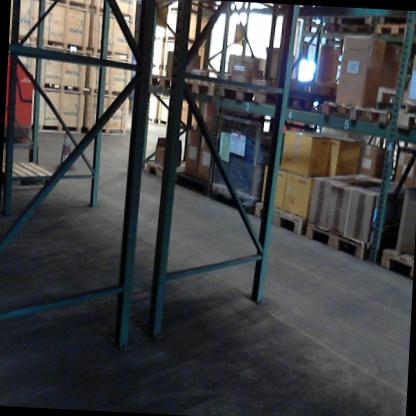pallet: (302, 210, 374, 265), (316, 88, 407, 131), (1, 157, 67, 197), (252, 195, 305, 242), (214, 76, 276, 111), (366, 242, 413, 279), (372, 15, 416, 54), (173, 68, 216, 102), (275, 87, 327, 115), (144, 67, 183, 98), (148, 156, 190, 184), (327, 20, 375, 44), (297, 20, 334, 47), (392, 104, 416, 136)
pallet_truck: (4, 44, 41, 143)
stillage: (206, 112, 285, 217)
